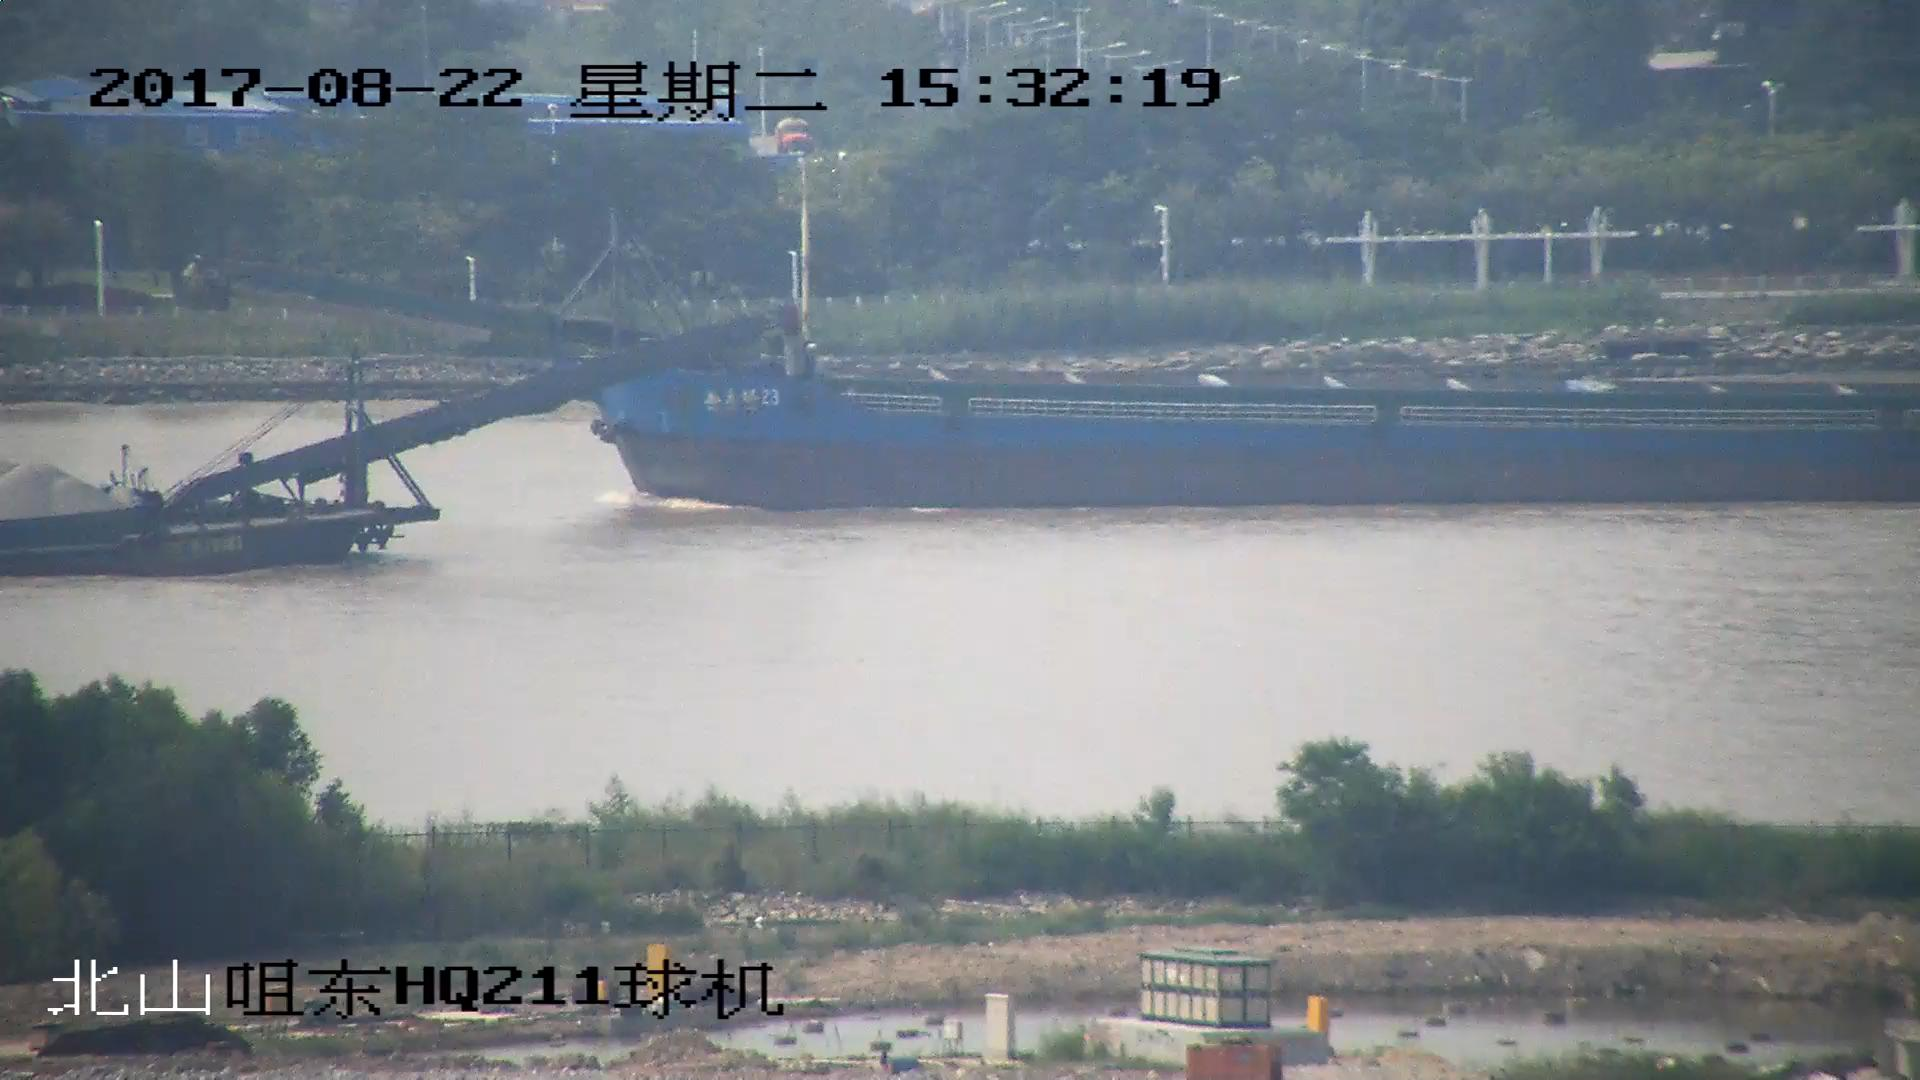bulk cargo carrier: (202, 256, 1920, 513)
ore carrier: (1, 308, 793, 584)
